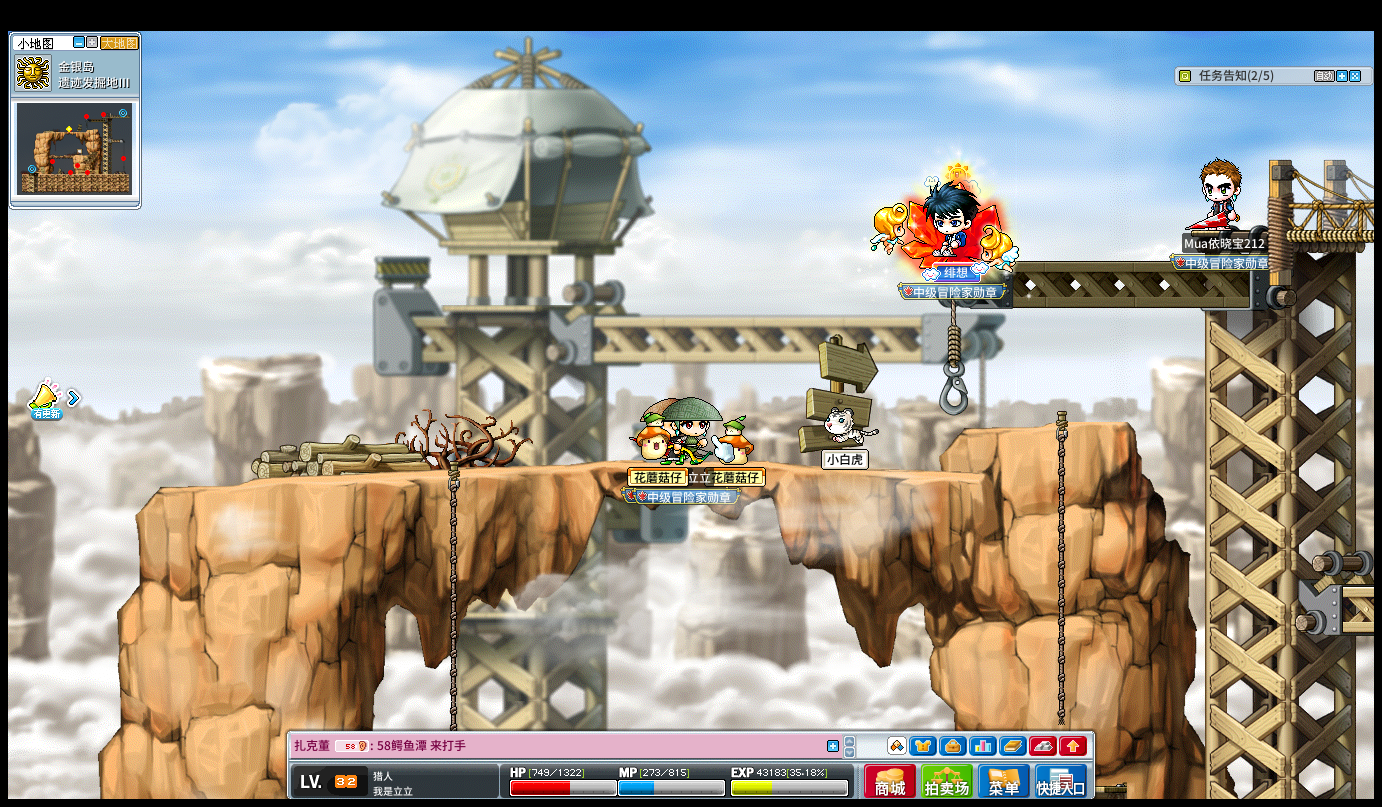floor: (153, 455, 1022, 483), (965, 417, 1132, 433), (964, 421, 1136, 435), (1343, 581, 1377, 595)
rope: (445, 455, 459, 807), (1053, 410, 1068, 717), (446, 458, 459, 735), (447, 458, 459, 664), (1053, 614, 1067, 722)
